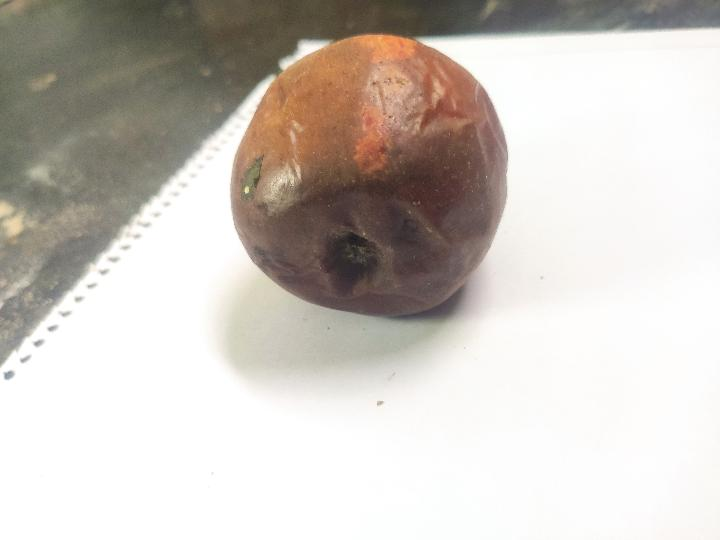apple: (230, 35, 507, 315)
rot_mold_decay: (231, 46, 507, 316), (241, 156, 264, 199)
